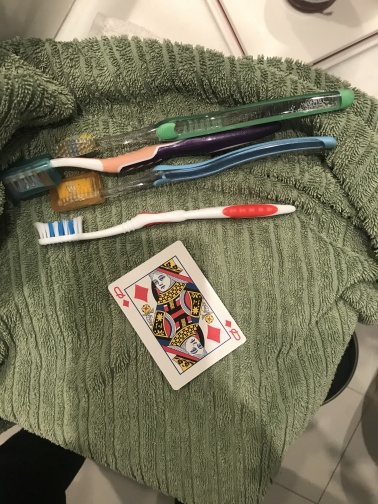queen: (106, 238, 248, 391)
